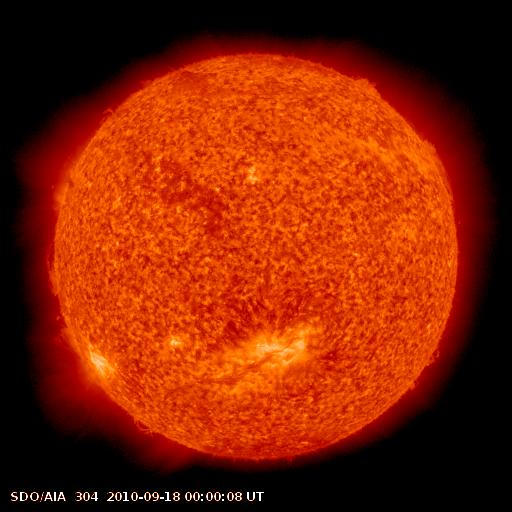prominence: (415, 134, 469, 206), (39, 214, 66, 305), (347, 68, 385, 106), (126, 410, 158, 445)
